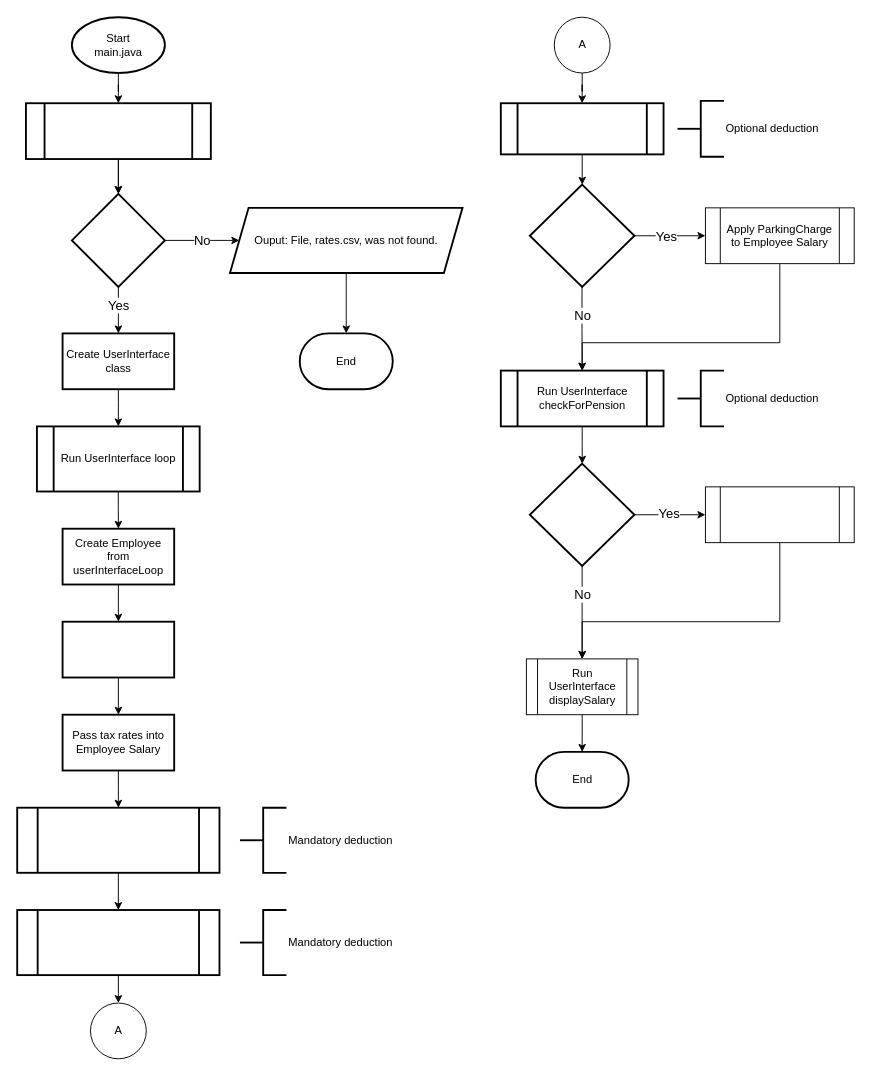
Some shapes in this 870 by 1075 pixel diagram are drawn without their labels. Each missing label, with the centre of its shape:
Apply incomeTax to Employee Salary: (118,839)
Apply nationalInsurance to Employee Salary: (118,942)
Apply PensionCharge to Employee Salary: (779,514)
File found and read: (117,240)
RateIO Load tax rates from CSV file named "rates.csv": (118,130)
Run UserInterface checkForParking: (581,128)
Set Employee Salary to userInterfaceLoop: (118,649)
User wants parking charge: (581,235)
User wants pension charge: (581,514)
